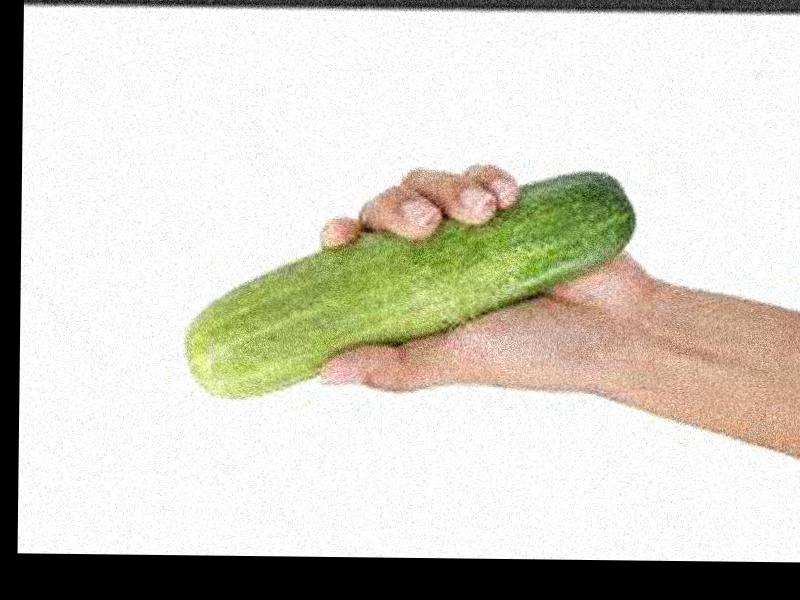Cucumber: (187, 170, 636, 406)
